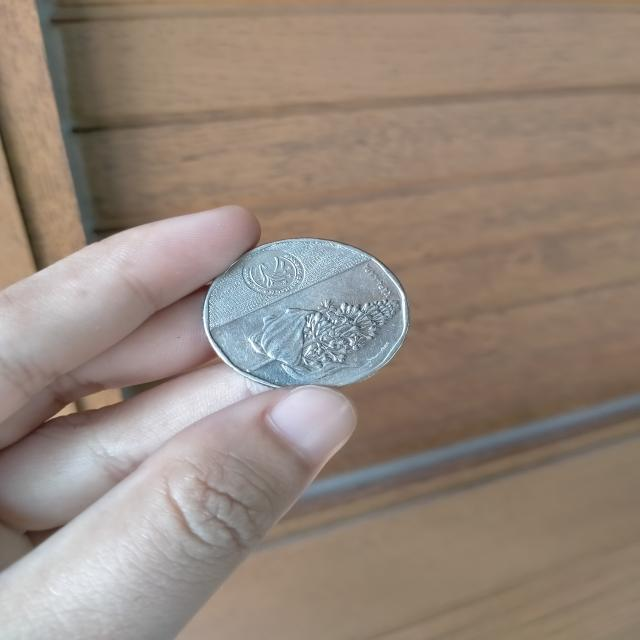10_New_Back: (227, 286, 413, 388)
